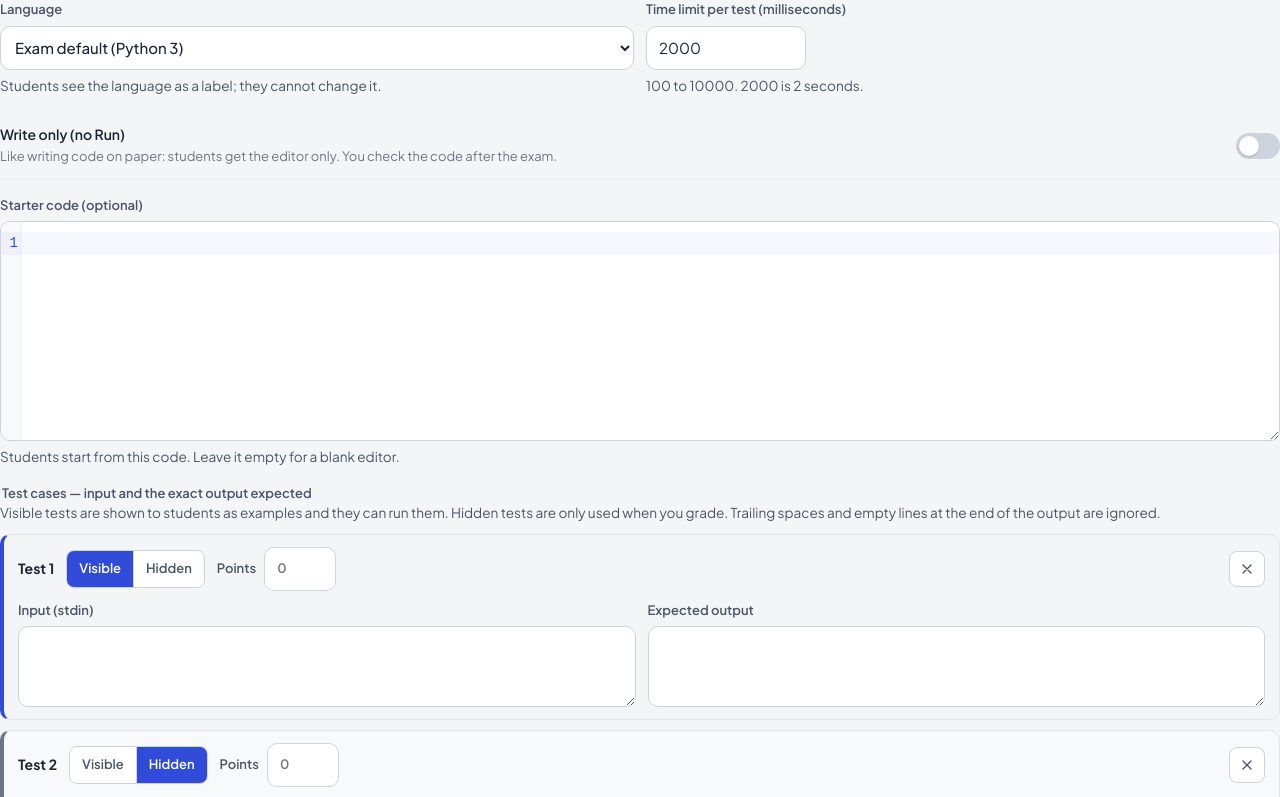
Test: multi-language question editor › shows SQL fields only for SQL and hides the test input
Later steps or results of the test are not shown.
Expected: the field labelled "Setup script" is not shown
Step 1. Select "SQL" in the dropdown labelled "Language" → (317, 48), box top-left (0, 26), bottom-right (634, 70)
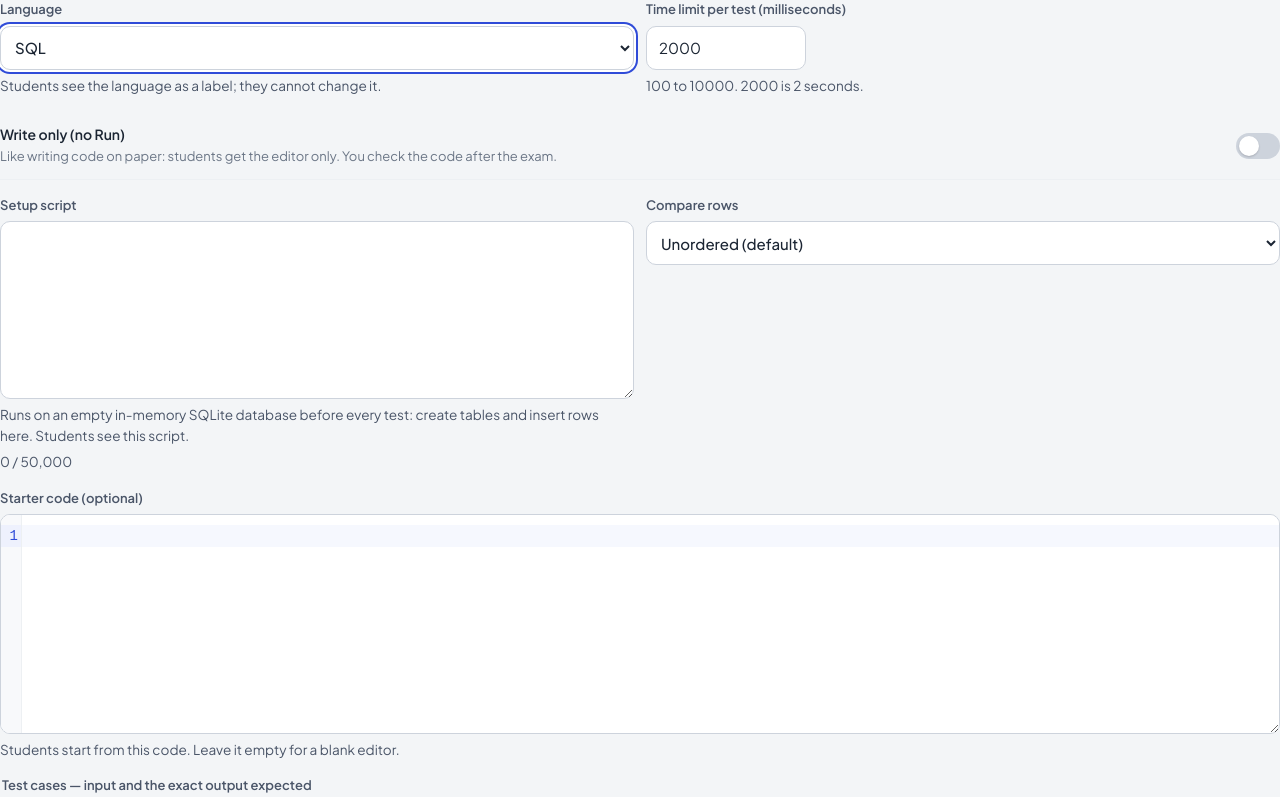
Expected: the text box labelled "Setup script" is shown, top-left (0, 221), bottom-right (634, 399)
Expected: the text "Input (stdin)" is gone
